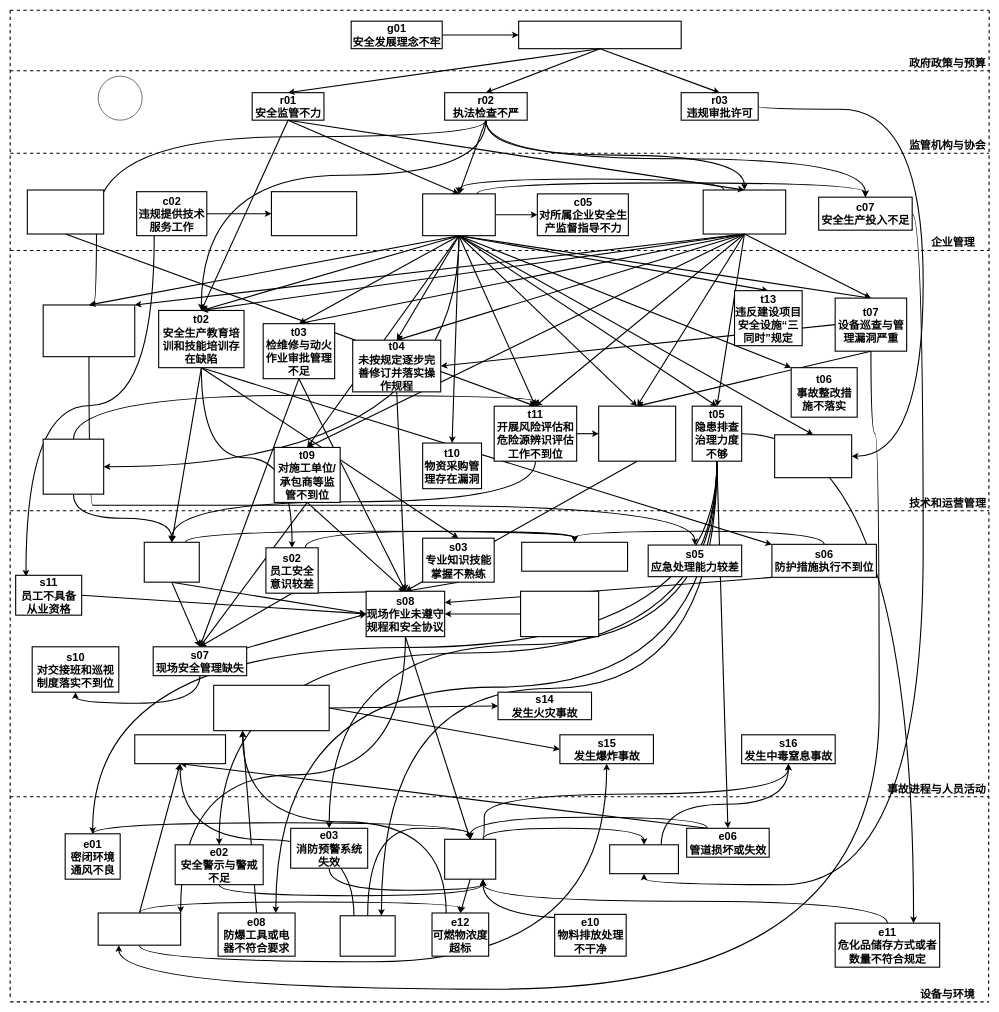
Image size: 999x1012. Some labels were removed from this diagram. Each missing label, with the centre of its shape:
"c01 违规出具虚假安全评价报告" belongs at [65,211].
"c03 施工质量或设备设计未达标" belongs at [314,213].
"c04 安全生产主体责任未落实" belongs at [459,214].
"c06 安全检查和管理制度存在缺陷" belongs at [744,211].
"e04 有毒气体浓度超标" belongs at [470,858].
"e05 安全距离不足" belongs at [644,859].
"e07 设备存在缺陷" belongs at [139,928].
"e09 密封或隔离失效" belongs at [367,935].
"g02 属地安全生产责任制未贯彻落实" belongs at [599,34].
"s01 员工风险识别不足" belongs at [171,561].
"s04 盲目抢修作业与施救" belongs at [574,556].
"s09 员工劳动纪律涣散且无责任心" belongs at [559,613].
"s12 达到一定浓度的可燃物遇到着火源" belongs at [271,707].
"s13 发生泄露事故" belongs at [180,749].
"t01 应急预案编制与组织演练存在缺陷" belongs at [88,330].
"t08 施工方案和技术交底不完善" belongs at [73,466].
"t12 重大危险源管控和防范措施有缺陷" belongs at [637,433].
"t14 工艺流程管理存在漏洞" belongs at [813,456].
